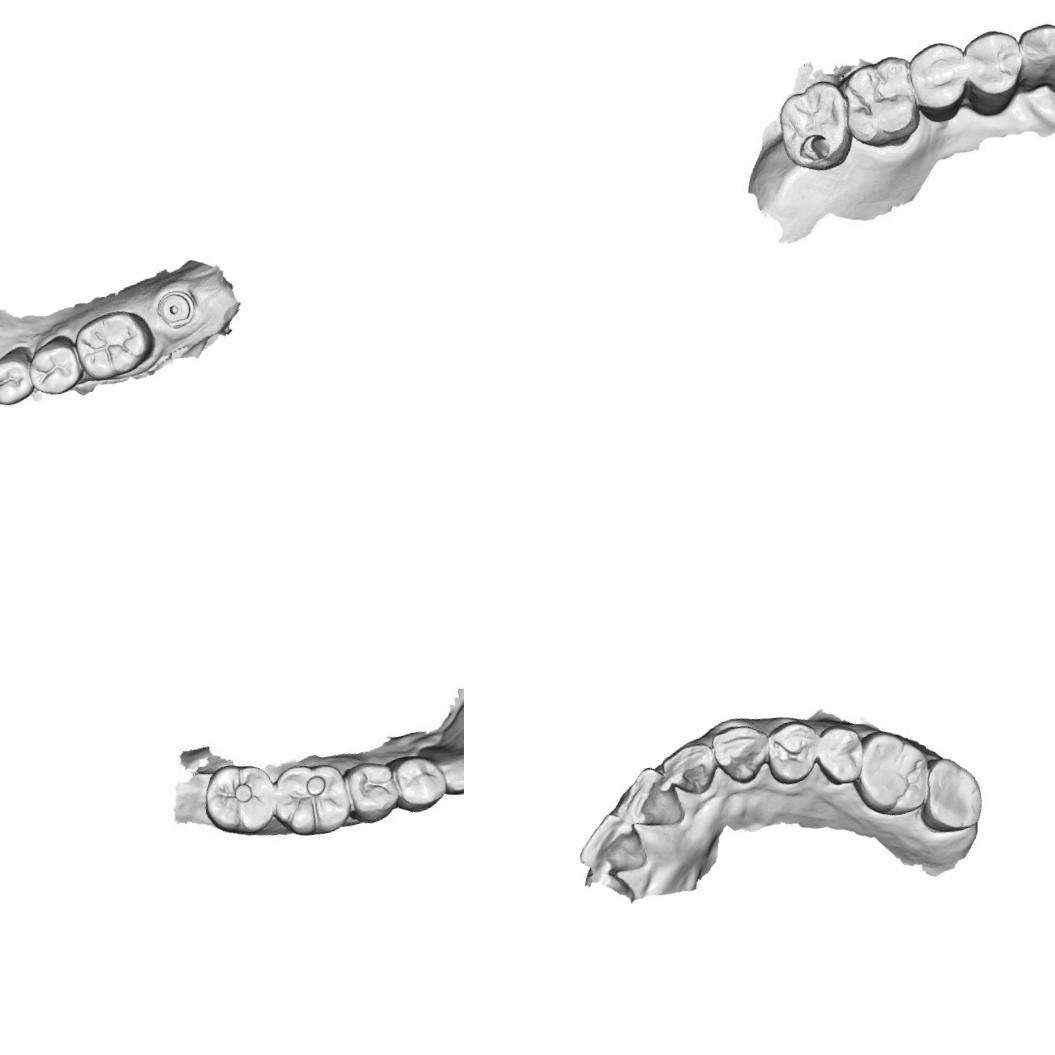canine: (706, 718, 772, 791), (1007, 14, 1055, 98), (433, 747, 464, 799)
implant: (151, 284, 196, 332)
incisor: (573, 808, 646, 880), (612, 763, 684, 835), (654, 738, 718, 802)
molar: (765, 75, 860, 178), (834, 50, 924, 154), (848, 722, 932, 820), (69, 303, 160, 384), (909, 752, 989, 841), (268, 756, 352, 837), (198, 758, 280, 835)
premolar: (956, 25, 1030, 119), (902, 37, 975, 125), (760, 716, 825, 788), (22, 331, 86, 399), (811, 718, 869, 786), (346, 762, 406, 824), (394, 751, 450, 809), (0, 351, 34, 409)
